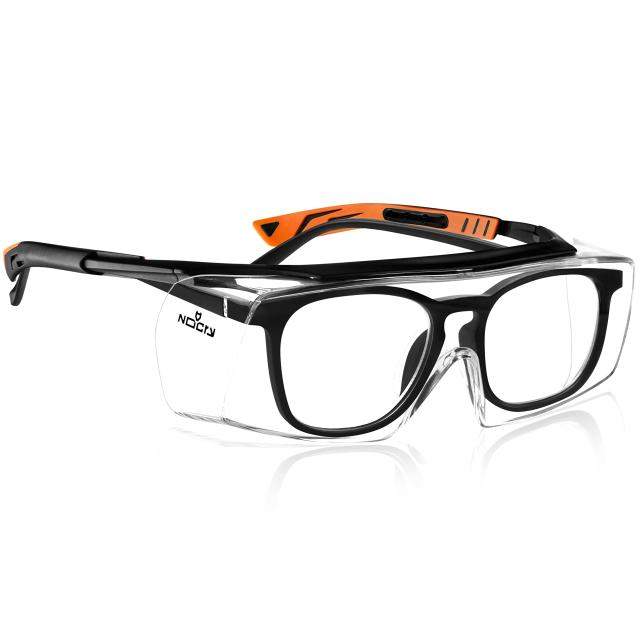goggles: (19, 189, 628, 430)
